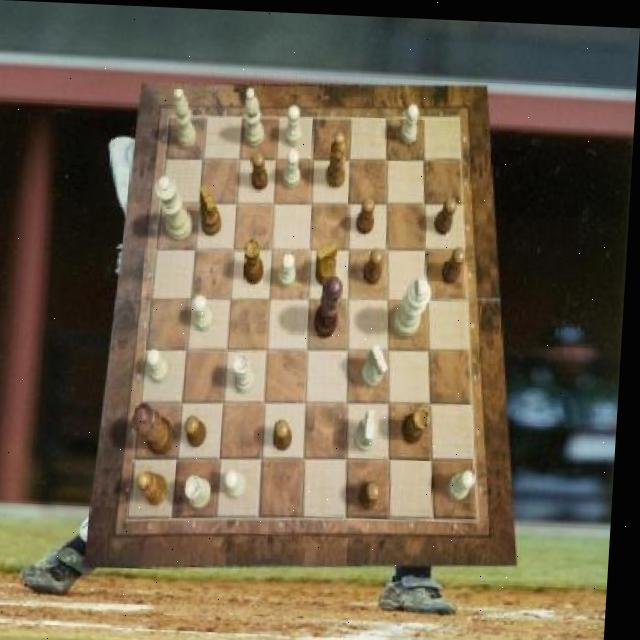bishop: (326, 130, 348, 187), (141, 469, 174, 505)
black-bishop: (316, 271, 348, 335)
black-king: (199, 183, 226, 235), (317, 238, 340, 284)
black-knight: (443, 244, 468, 281), (435, 193, 458, 231), (188, 414, 212, 447), (252, 149, 272, 188), (367, 244, 386, 282), (359, 195, 378, 233), (362, 478, 386, 506), (278, 416, 298, 448)
black-pawn: (136, 402, 182, 456)
black-queen: (405, 401, 434, 440), (245, 235, 268, 282)
black-rook: (172, 86, 199, 147), (243, 86, 269, 147)
white-bishop: (394, 271, 434, 334)
white-king: (365, 341, 394, 385), (358, 404, 383, 447)
white-knight: (452, 464, 481, 496), (148, 348, 173, 383), (195, 293, 218, 330), (286, 102, 305, 145), (284, 147, 303, 188), (400, 100, 419, 141), (281, 250, 300, 287), (229, 468, 252, 496)
white-pawn: (154, 173, 197, 239)
white-queen: (235, 352, 261, 393), (190, 472, 218, 507)
